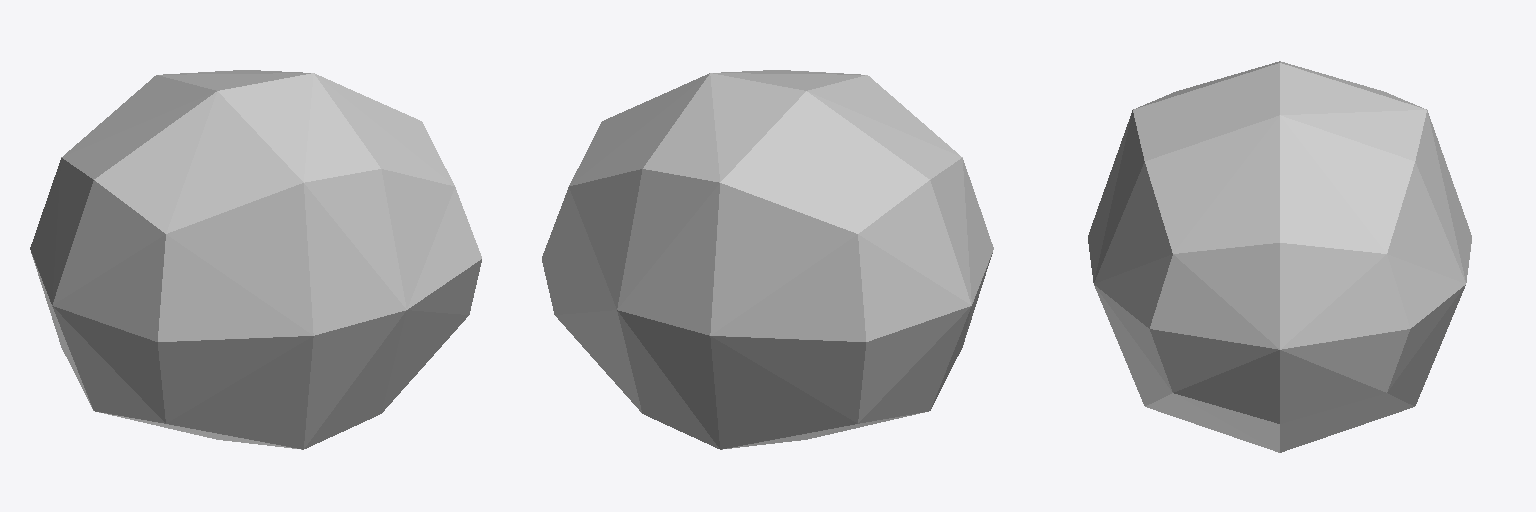
File: low_poly_raccoon_tail_1.obj
The picture shows the model from 3 angles: view 1: azimuth 30°, elevation 25°; view 2: azimuth 150°, elevation 25°; view 3: azimuth 270°, elevation 25°; orthographic projection.
Parts seen in each view (by area): view 1: Tail_1; view 2: Tail_1; view 3: Tail_1.
Part boxes in pixels (x1,y1,x2,y2): Tail_1: (30, 70, 481, 449); Tail_1: (542, 70, 993, 449); Tail_1: (1088, 61, 1471, 452).
Bounding box in the file's own units: 0.2395 × 0.1958 × 0.1958.